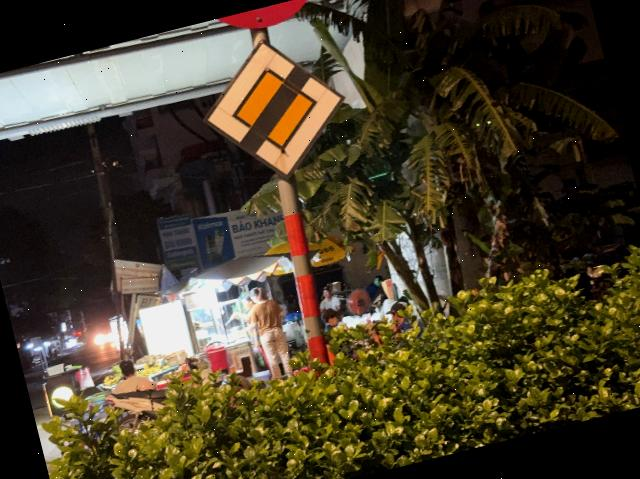het-duong-uu-tien: (188, 22, 362, 197)
